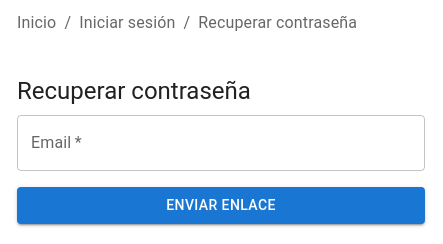
Scenario: SolicitarRecuperacionForm (RF-38) › muestra el mismo mensaje de confirmación exista o no el email
Type "ana@ejemplo.com" into the field labelled "Email *" at (221, 143), box [17,115,425,171]
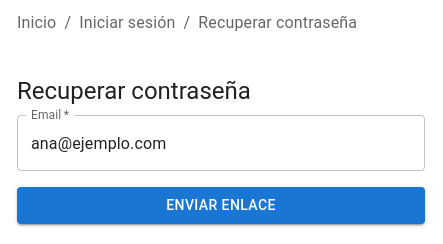
Click the button "Enviar enlace" at (221, 206), box [17,187,425,224]
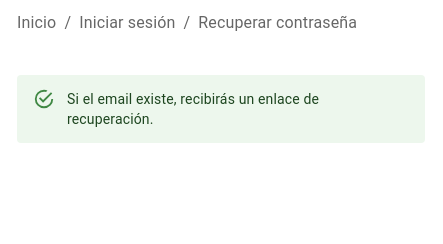
Expected: the text "Si el email existe, recibirás un enlace de recuperación." is shown, [67,91,319,127]
